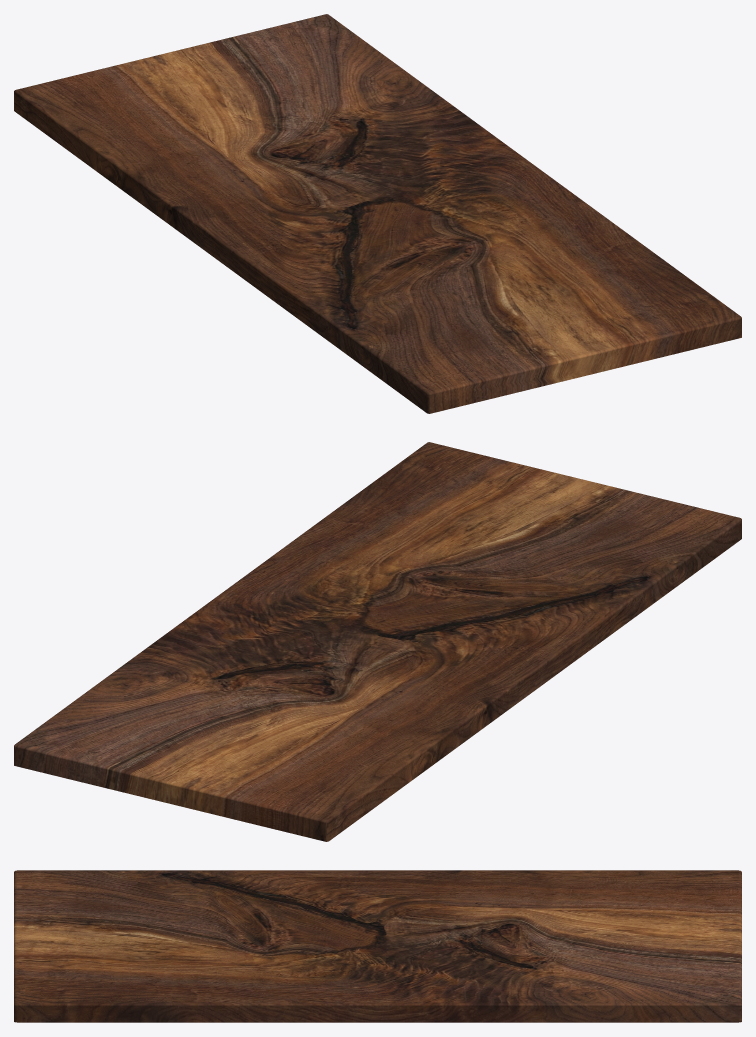
The model's file is Solid Wood Top.glb.
3 views of the same model, one above another, from view 1: azimuth 30°, elevation 25°; view 2: azimuth 150°, elevation 25°; view 3: azimuth 270°, elevation 25° (orthographic). The views are drawn at different scales.
Visible parts, largest first — view 1: Tabletop; view 2: Tabletop; view 3: Tabletop.
Part boxes in pixels (box(x1,y1,x2,y2)): Tabletop: box(14, 14, 741, 413); Tabletop: box(14, 442, 741, 841); Tabletop: box(14, 870, 741, 1022).
Bounding box in the file's own units: 1.07 × 0.0669 × 2.44.
1 material, 1 textured.
